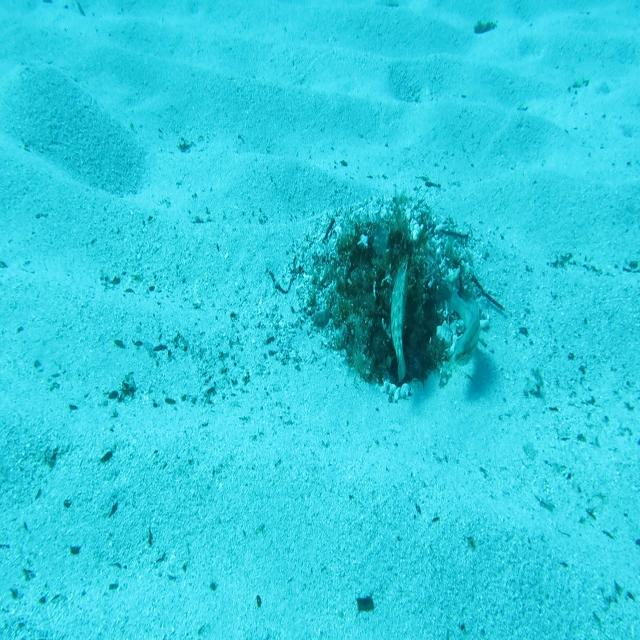ROLL: (387, 252, 414, 383)
core_nest: (366, 233, 408, 279)
female: (437, 277, 482, 370)
nest: (286, 175, 500, 413)
vegetation: (474, 17, 499, 37), (355, 593, 376, 615)
